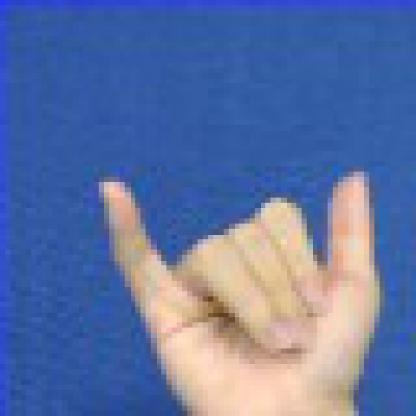six: (83, 156, 411, 411)
